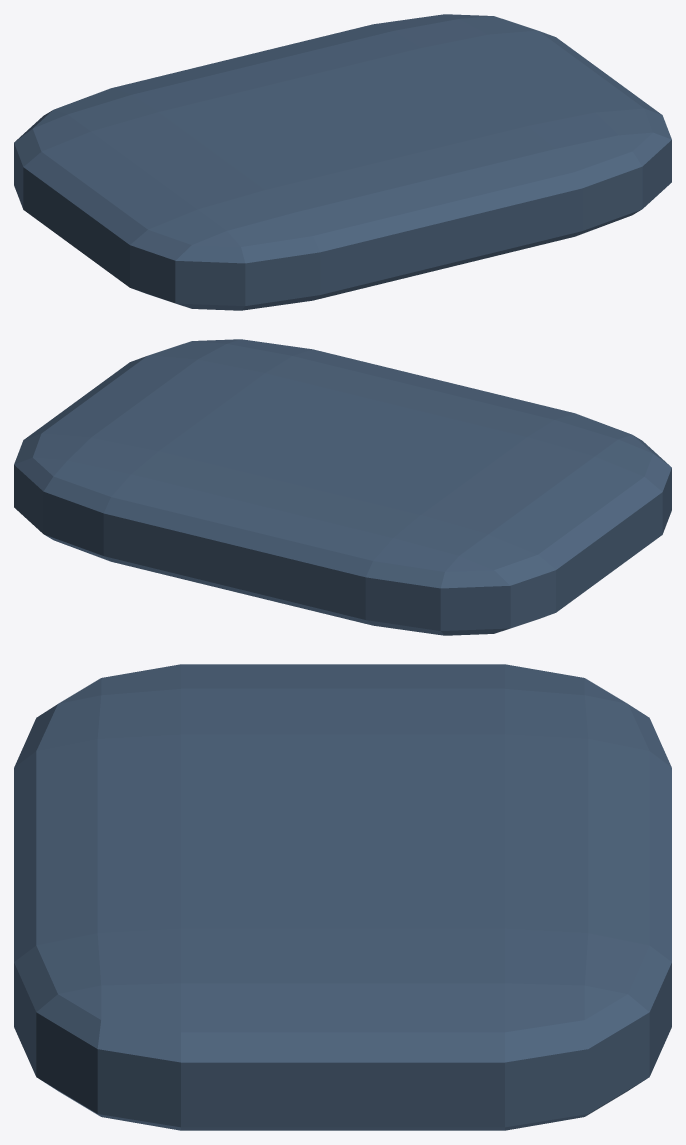
Rendered from chair_cushion_seat_01.fbx.
3 views of the same model, one above another, from view 1: azimuth 30°, elevation 25°; view 2: azimuth 150°, elevation 25°; view 3: azimuth 270°, elevation 25° (orthographic). The views are drawn at different scales.
Visible parts, largest first — view 1: Cube.014; view 2: Cube.014; view 3: Cube.014.
Boxes of the visible parts, x1,y1,x2,y2 form: Cube.014: (14,14,671,310); Cube.014: (14,339,671,635); Cube.014: (14,664,671,1130).
Bounding box in the file's own units: 65.43 × 10.18 × 46.07.
